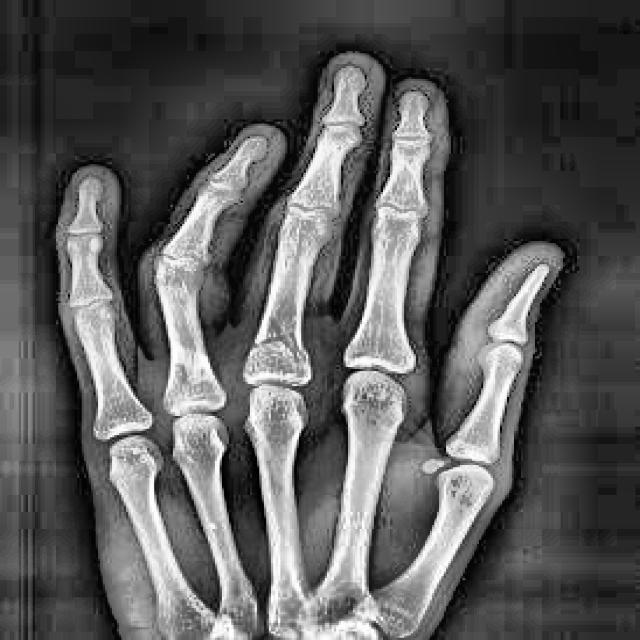fracture: (248, 322, 299, 356), (166, 342, 215, 374)
